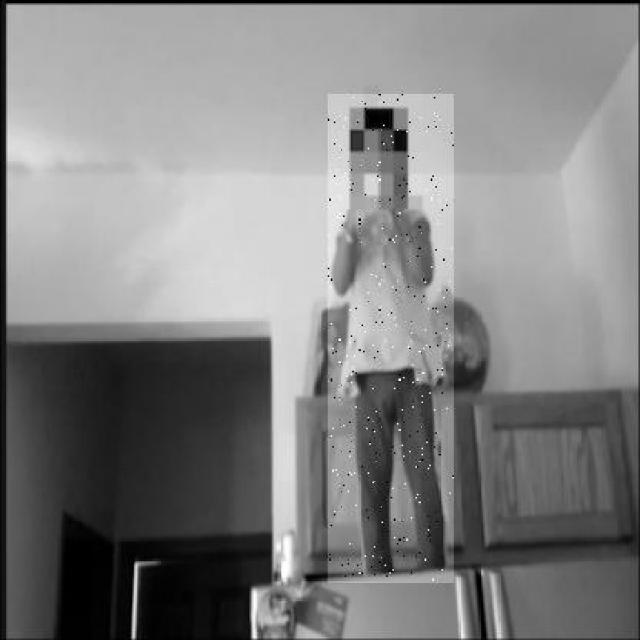child: (328, 94, 454, 583)
